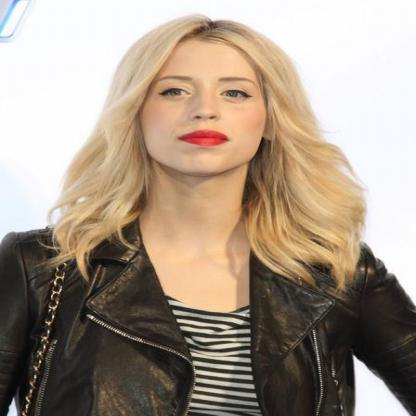long-hair: (48, 176, 372, 244)
